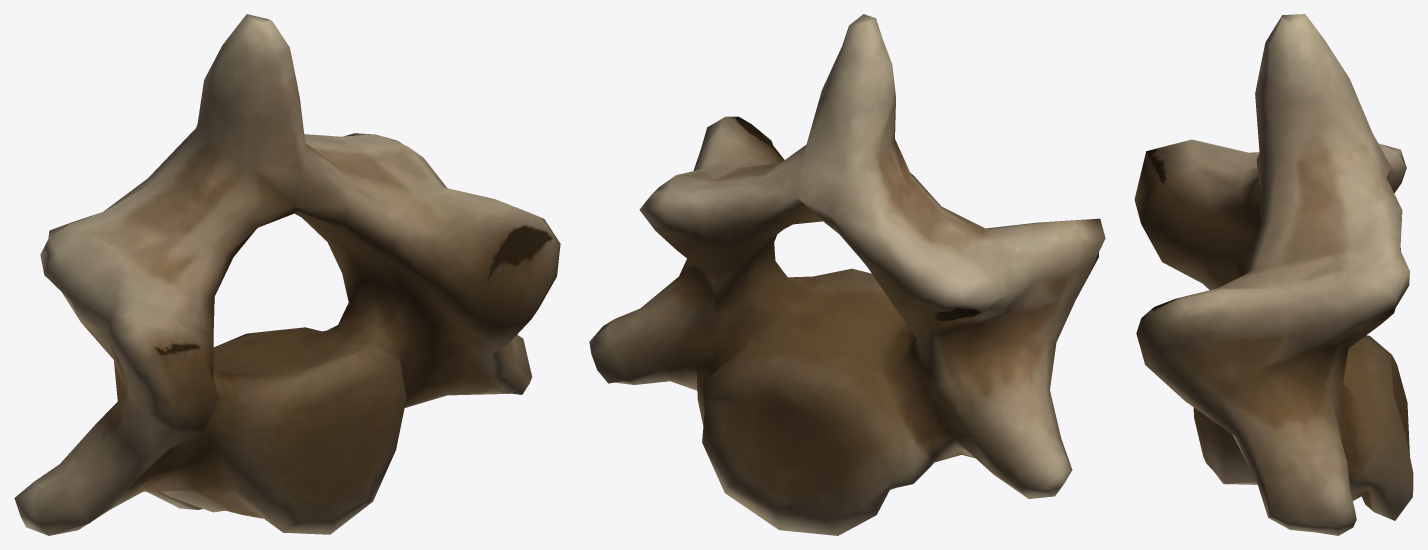
3 views of the same model, side by side, from view 1: azimuth 30°, elevation 25°; view 2: azimuth 150°, elevation 25°; view 3: azimuth 270°, elevation 25° (orthographic). The views are drawn at different scales.
Visible parts, largest first — view 1: C12:Group53291; view 2: C12:Group53291; view 3: C12:Group53291.
Part boxes in pixels (box(x1,y1,x2,y2)): C12:Group53291: box(14, 14, 560, 535); C12:Group53291: box(589, 14, 1105, 535); C12:Group53291: box(1134, 14, 1413, 535).
Size of the model in its own units: 35.75 by 35.75 by 18.67.
1 material, 1 textured.
